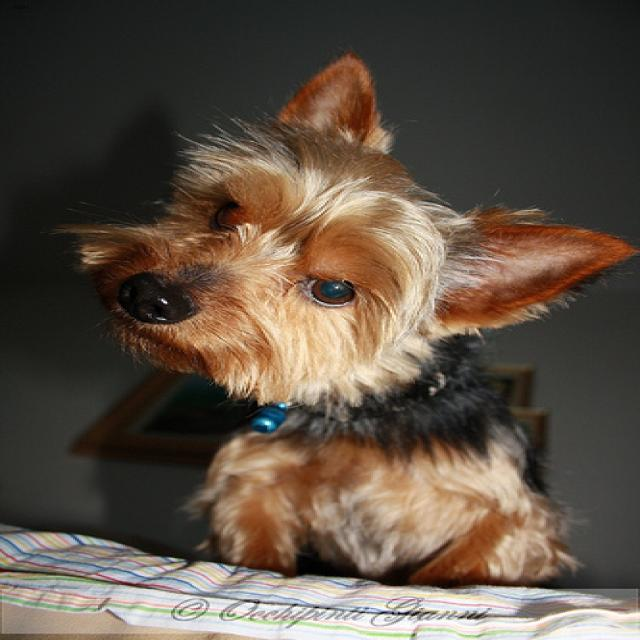dog-yorkshire_terrier: (44, 45, 636, 596)
